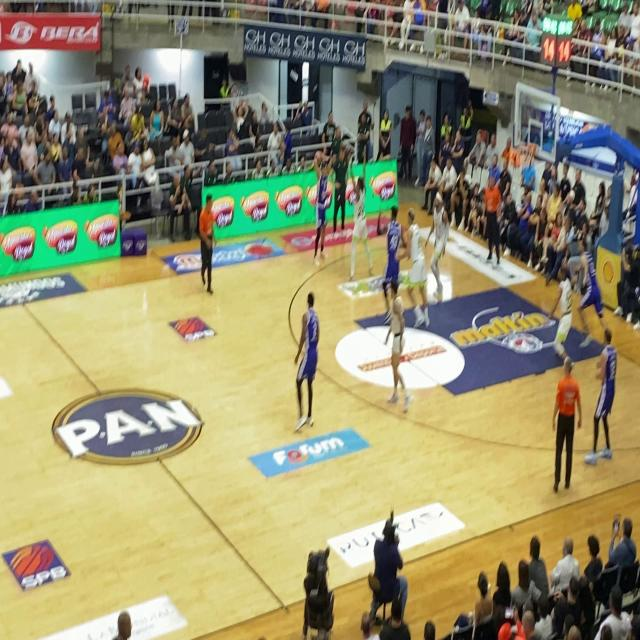referee: (543, 354, 583, 496)
team2: (286, 286, 320, 430)
ubasket: (520, 141, 536, 175)
